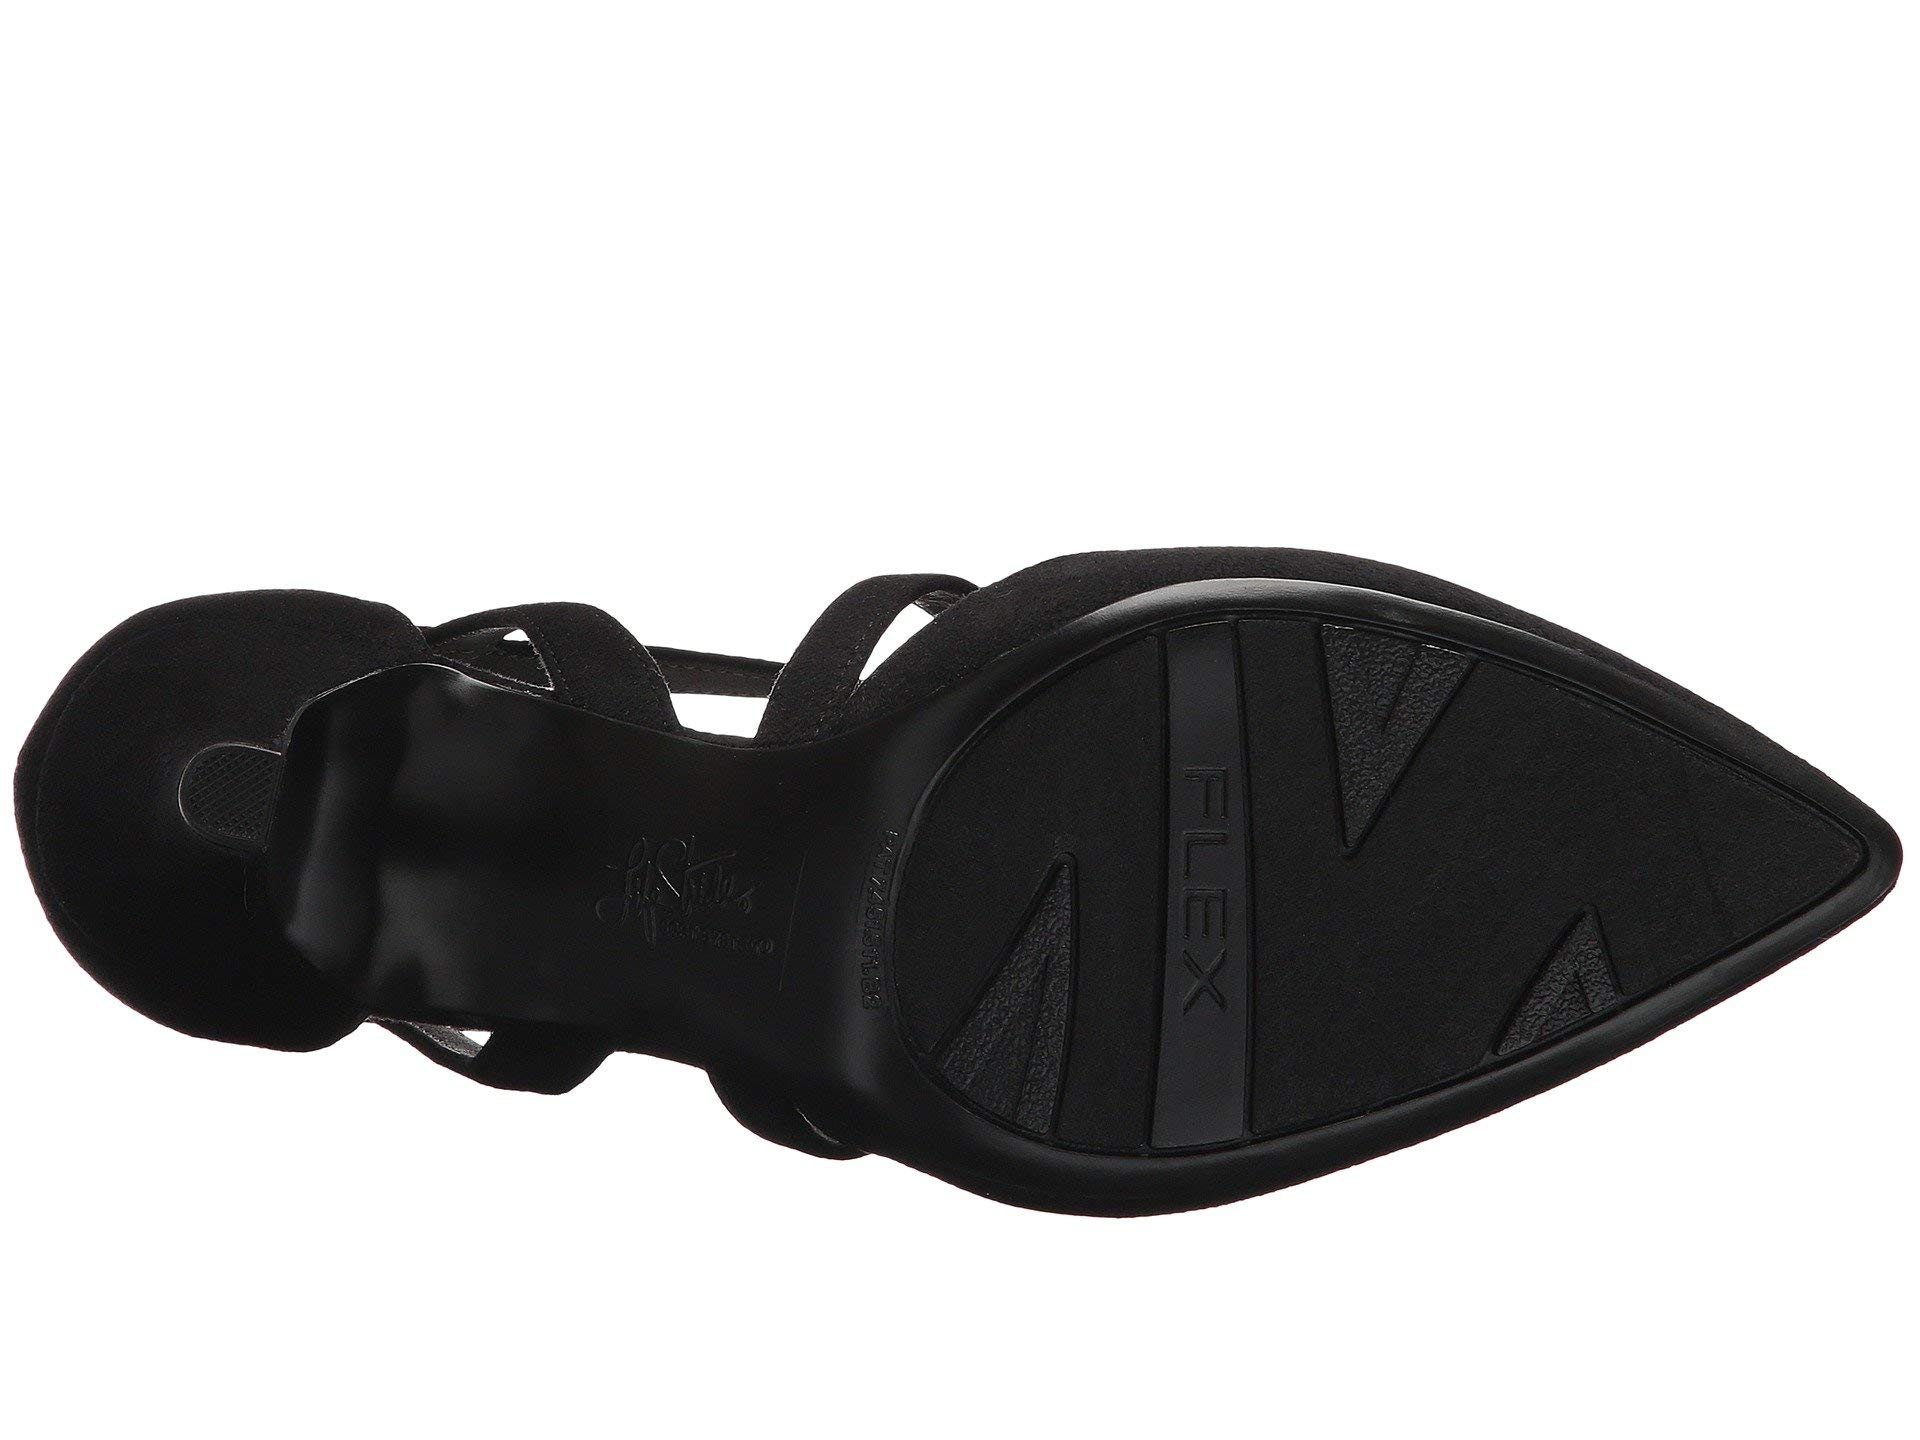chevron: (1265, 607, 1541, 886)
quad: (1420, 889, 1714, 1098)
text: (1104, 715, 1293, 1057), (562, 797, 804, 982)
triangle: (1265, 607, 1541, 886), (1420, 889, 1714, 1098)
